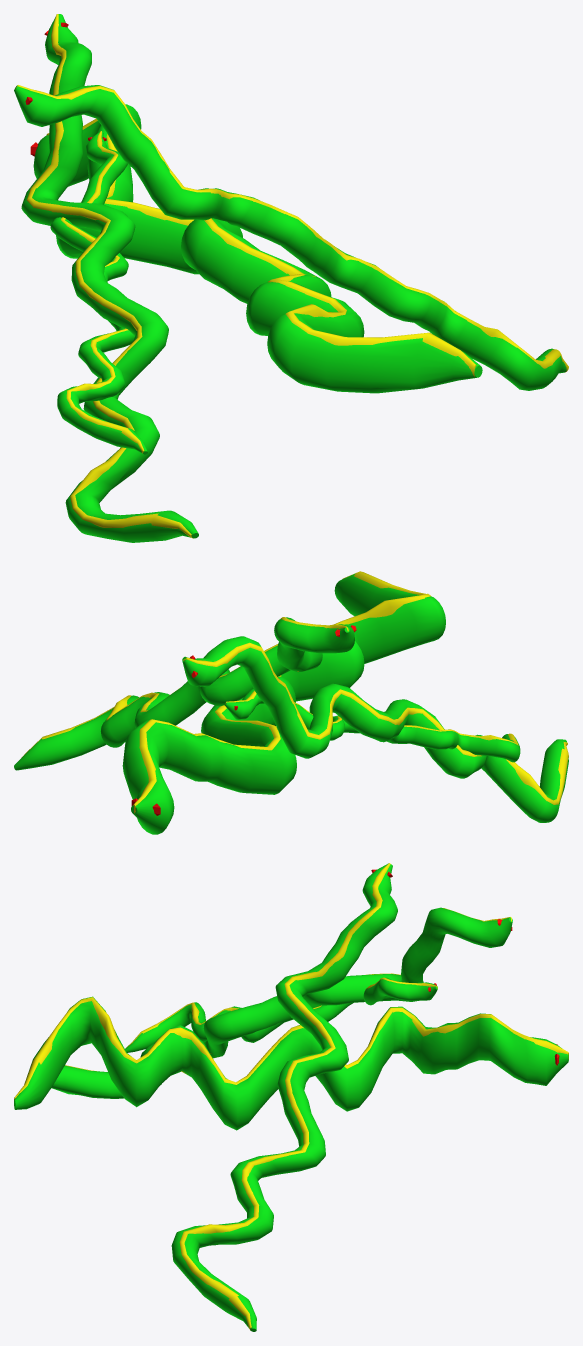
The model's file is Germ_Fighter_3.obj.
The picture shows the model from 3 angles, top to bottom: view 1: azimuth 30°, elevation 25°; view 2: azimuth 150°, elevation 25°; view 3: azimuth 270°, elevation 25°; orthographic projection. The views are drawn at different scales.
Parts seen in each view (by area): view 1: polySurface1, polySurface2, polySurface4, polySurface3; view 2: polySurface1, polySurface4, polySurface2, polySurface3; view 3: polySurface1, polySurface2, polySurface4, polySurface3.
Part boxes in pixels (box(x1,y1,x2,y2)): polySurface1: box(30, 104, 482, 393); polySurface2: box(14, 85, 568, 390); polySurface4: box(21, 14, 198, 542); polySurface3: box(50, 131, 147, 454); polySurface1: box(122, 571, 445, 834); polySurface4: box(182, 636, 568, 822); polySurface2: box(14, 617, 356, 770); polySurface3: box(224, 689, 520, 762); polySurface1: box(14, 996, 568, 1130); polySurface2: box(171, 863, 397, 1331); polySurface4: box(51, 907, 512, 1098); polySurface3: box(125, 977, 437, 1052).
Size of the model in its own units: 3.88 by 2.24 by 4.01.
